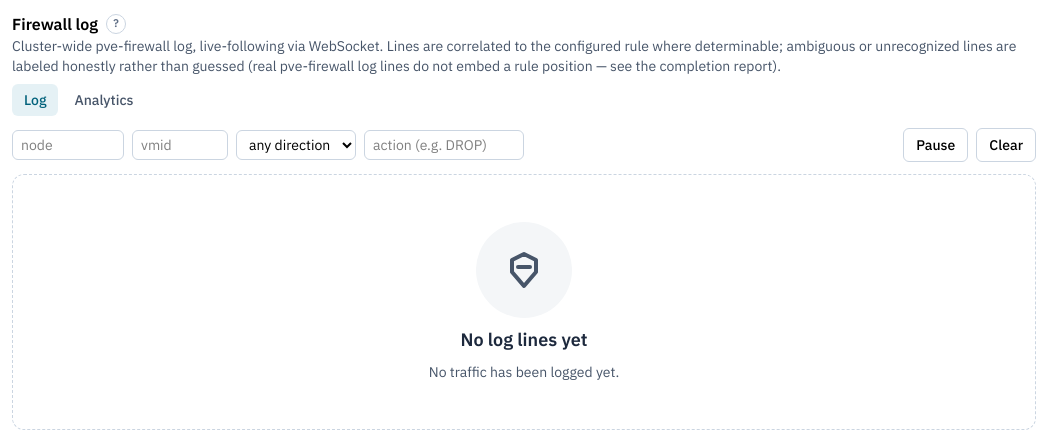
Test: FwLogViewer › pauses the stream: new WS batches are counted but not rendered until resume
Click the button "Pause" at (936,145), box [903,128,968,162]
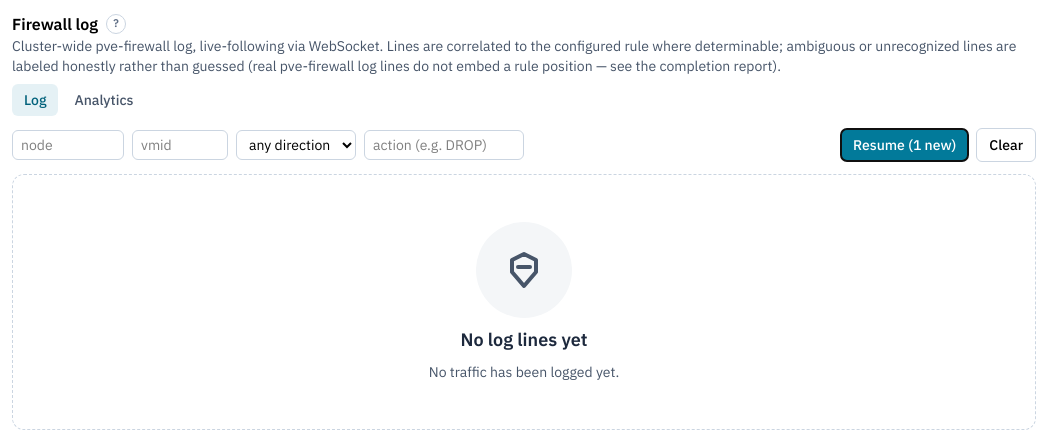
Expected: the text "pve3" is not shown
Result: the button "Resume (1 new)" is shown
Click the button "Resume (1 new)" at (905,145), box [841,129,968,161]
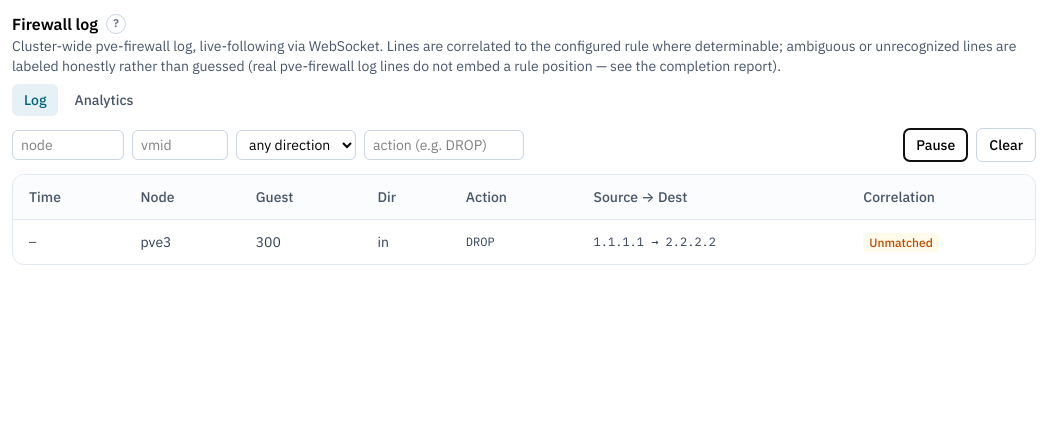
Result: the text "pve3" is shown at [125,220,240,264]
